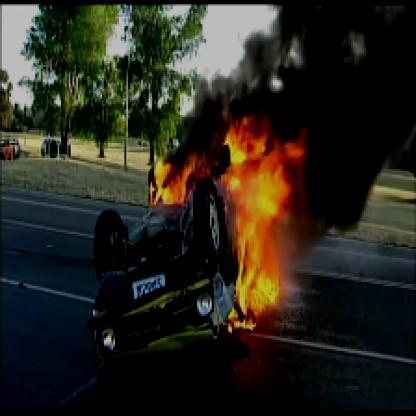Fire: (149, 98, 325, 334)
